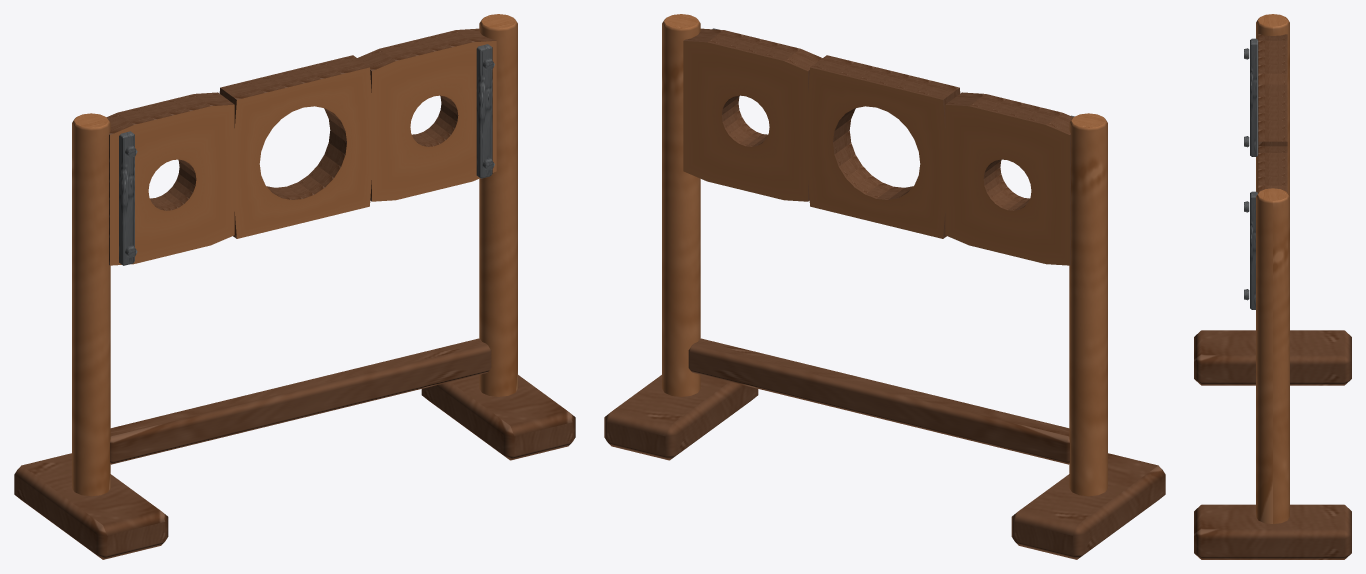
The model's file is SM_Stocks.glb.
The picture shows the model from 3 angles, left to right: view 1: azimuth 30°, elevation 25°; view 2: azimuth 150°, elevation 25°; view 3: azimuth 270°, elevation 25°; orthographic projection. The views are drawn at different scales.
Visible parts, largest first — view 1: SM_Stocks; view 2: SM_Stocks; view 3: SM_Stocks.
Part boxes in pixels (x1,y1,x2,y2): SM_Stocks: (14,14,575,559); SM_Stocks: (604,14,1165,559); SM_Stocks: (1194,14,1351,559).
Bounding box in the file's own units: 2.31 × 1.85 × 0.75.
1 material, 1 textured.
